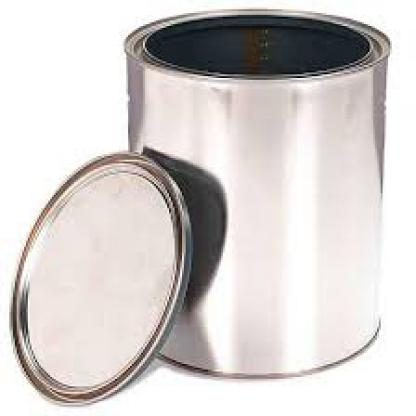METAL: (124, 6, 384, 375), (10, 150, 190, 407)
